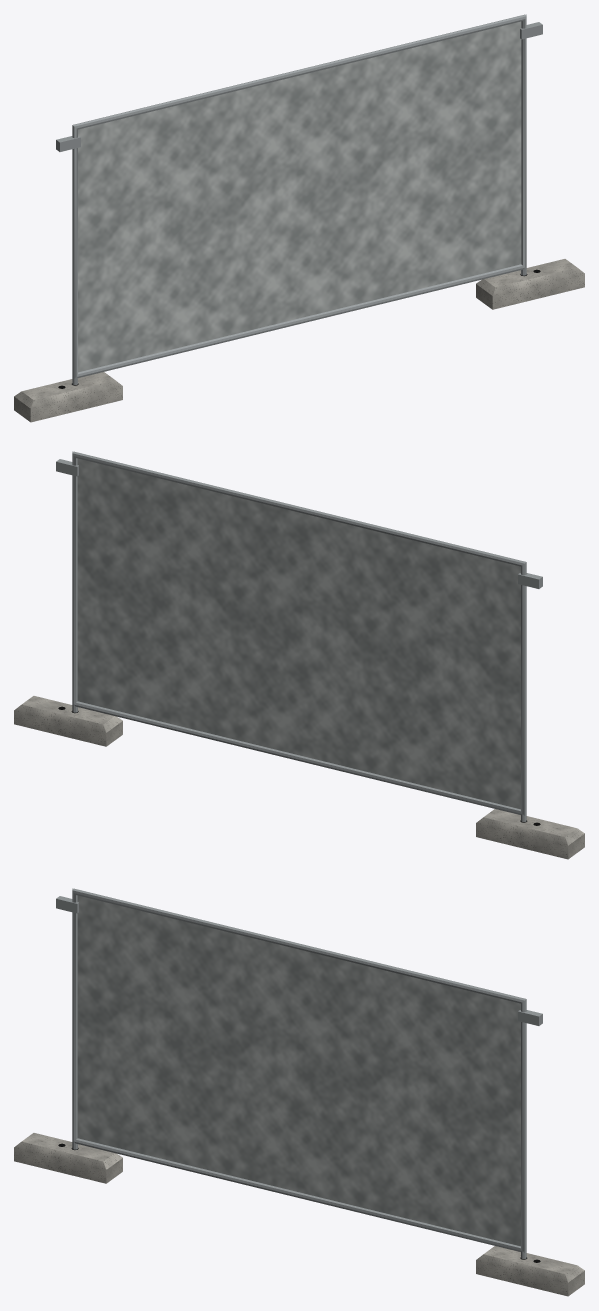
The model's file is construction_fence.glb.
The picture shows the model from 3 angles, top to bottom: view 1: azimuth 30°, elevation 25°; view 2: azimuth 150°, elevation 25°; view 3: azimuth 330°, elevation 25°; orthographic projection.
Parts seen in each view (by area): view 1: construction_fence; view 2: construction_fence; view 3: construction_fence.
Part boxes in pixels (x1,y1,x2,y2): construction_fence: [14, 14, 584, 422]; construction_fence: [14, 451, 584, 859]; construction_fence: [14, 888, 584, 1296].
Size of the model in its own units: 4.2 by 2.02 by 0.22.
Materials: 4 (2 with a texture image).
